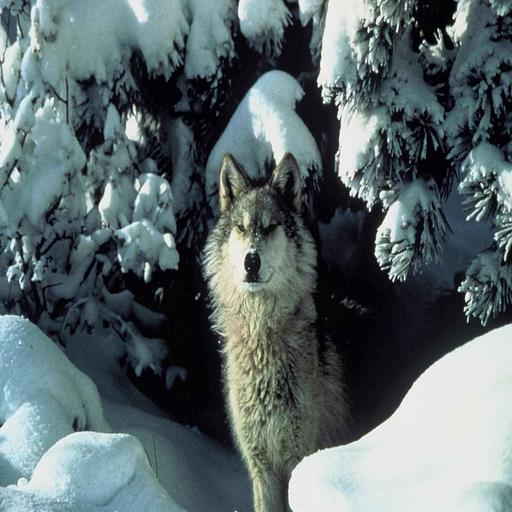Wolf: (189, 150, 354, 508)
